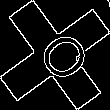O_SW: (22, 23, 88, 87)
